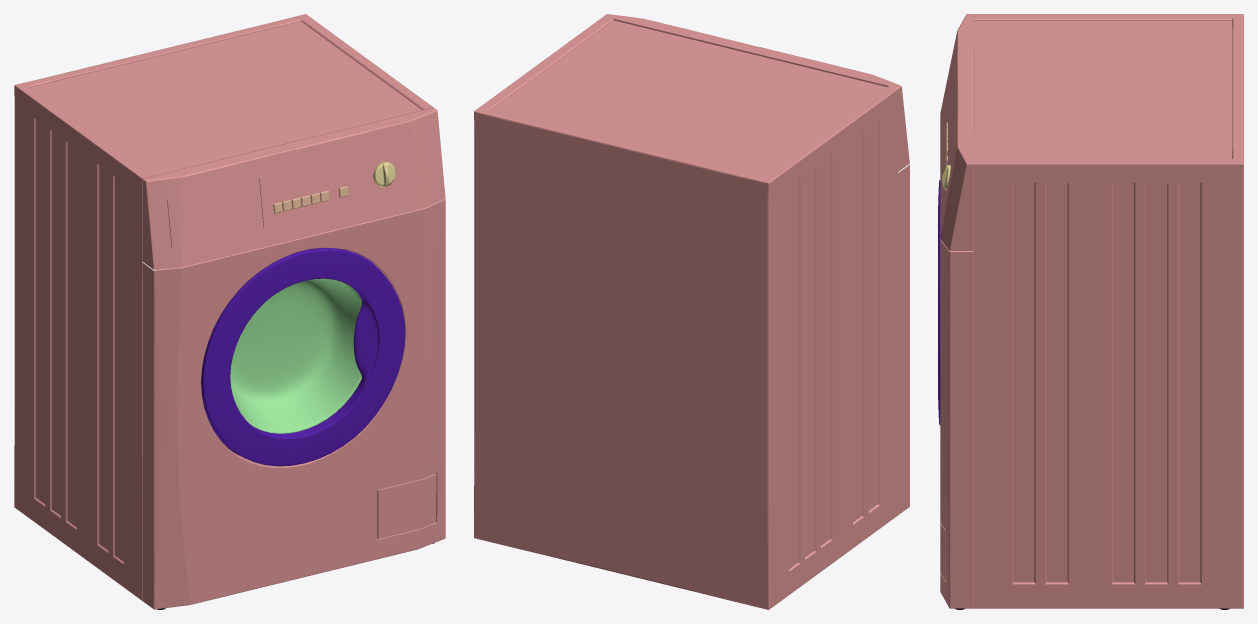
Rendered from wash_mashine.obj.
3 renders of one model, left to right at view 1: azimuth 30°, elevation 25°; view 2: azimuth 150°, elevation 25°; view 3: azimuth 270°, elevation 25°, orthographic. The views are drawn at different scales.
Visible parts, largest first — view 1: fasad, korpus, krishka, steklo, Buttons; view 2: korpus, fasad; view 3: korpus, fasad, krishka.
Part boxes in pixels (x1,y1,x2,y2): fasad: [142, 108, 445, 609]; korpus: [14, 14, 433, 600]; krishka: [201, 248, 405, 466]; steklo: [230, 278, 361, 433]; Buttons: [273, 186, 348, 213]; korpus: [474, 16, 898, 609]; fasad: [604, 14, 909, 514]; korpus: [974, 14, 1243, 608]; fasad: [940, 14, 973, 608]; krishka: [938, 180, 940, 425].
Bounding box in the file's own units: 600 × 837 × 517.
